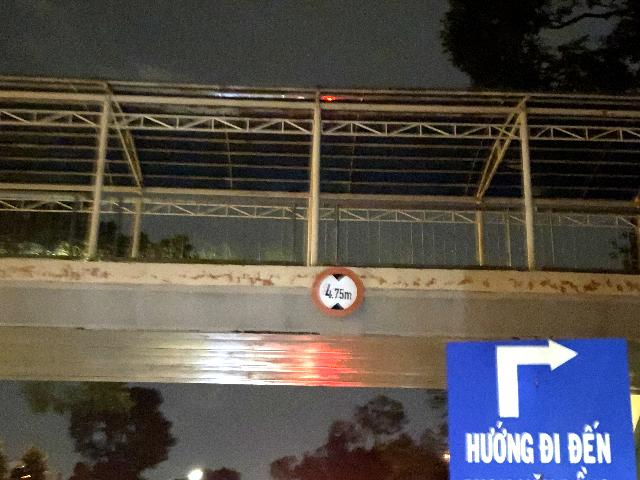han-che-chieu-cao: (312, 266, 364, 317)
